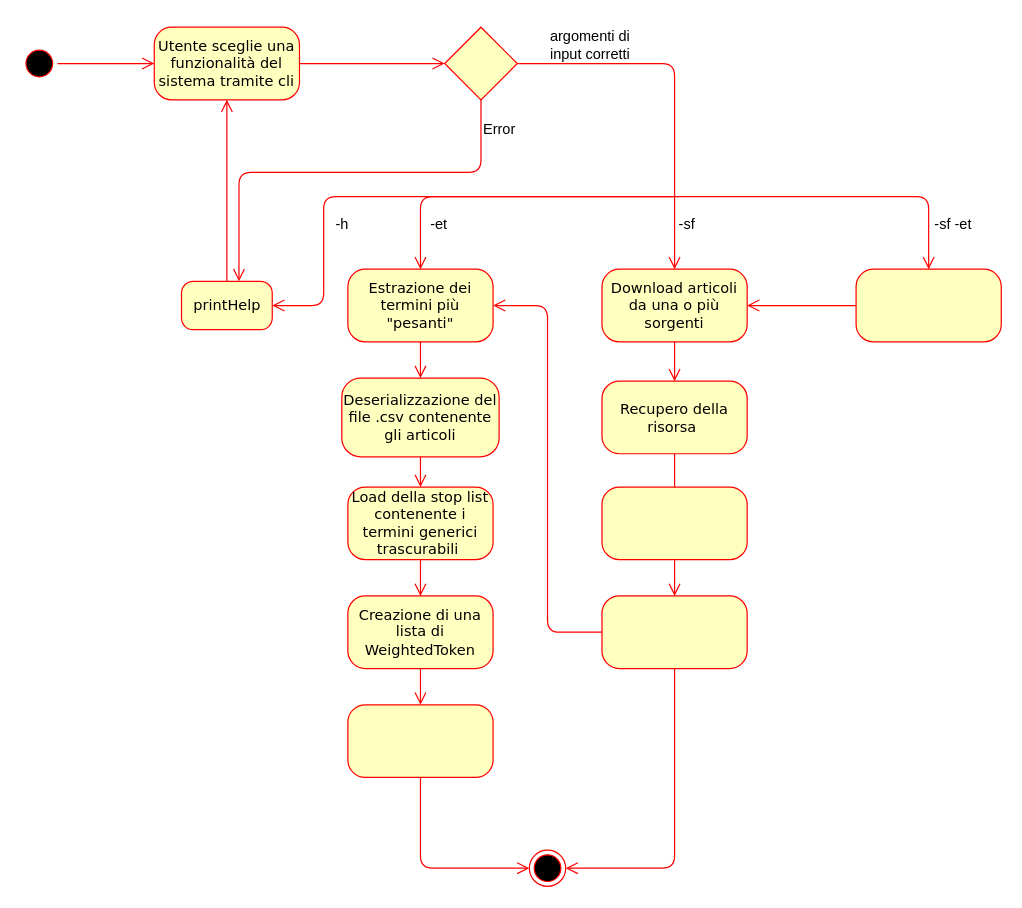
This 1022x908 diagram has some shape labels left out. The centre of each missing label's shape, as x and y in pixels:
Creazione di un array di oggetti Article: (x=674, y=523)
Download articoli e estrazione termini: (x=928, y=305)
Salvataggio della lista di WeightedToken su un file .txt: (x=420, y=740)
Serializzazione degli articoli nel file saved_articles.csv: (x=674, y=632)
